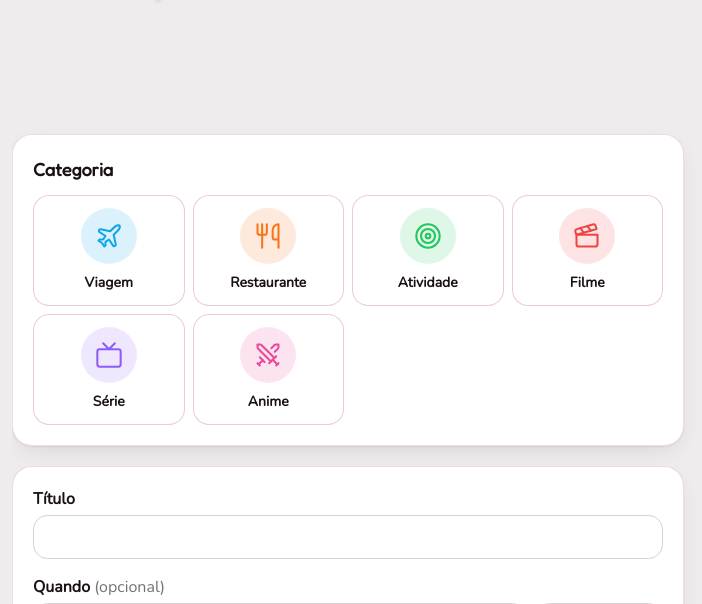
Test: a failed search says so
Click the button "Restaurante" at coordinates (268, 250), box [192,195,344,306]
(page scrolled)
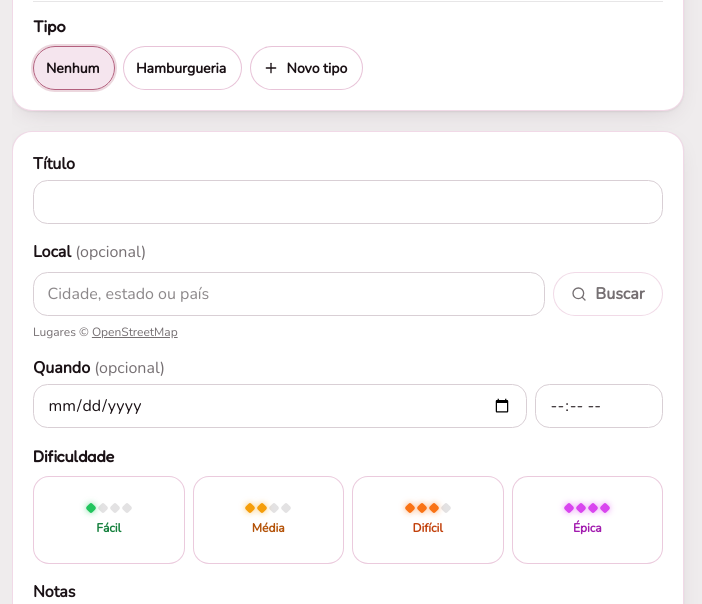
Type "Ribeirão" into the field labelled "Local (opcional)" at coordinates (289, 294), box [33,272,545,316]
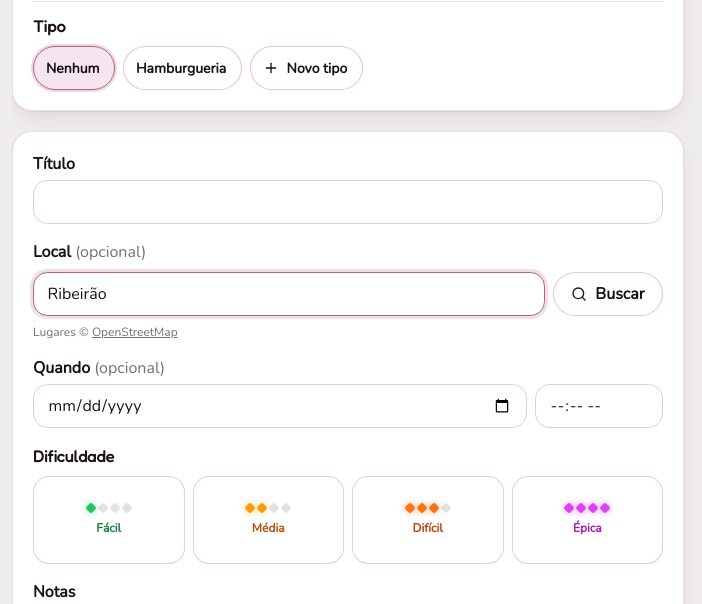
Click the button "Buscar" at coordinates (608, 294), box [553,272,663,316]
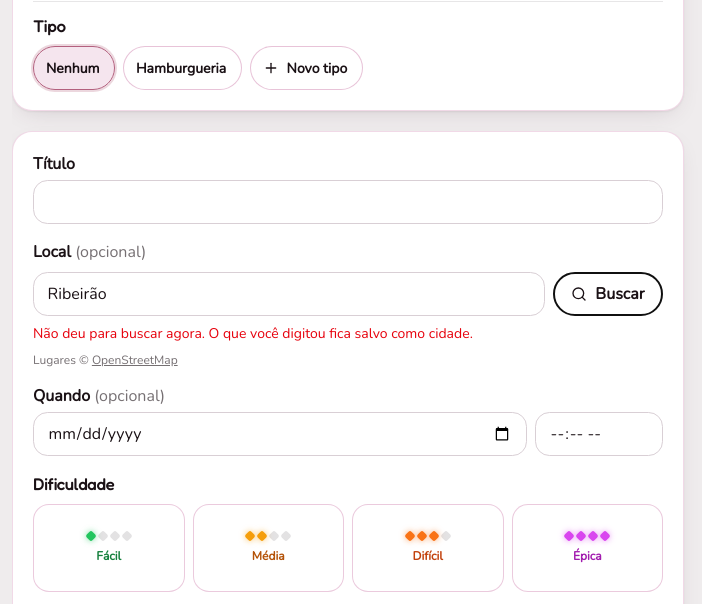
Result: the message shows "Não deu para buscar agora" at [33,324,473,343]
